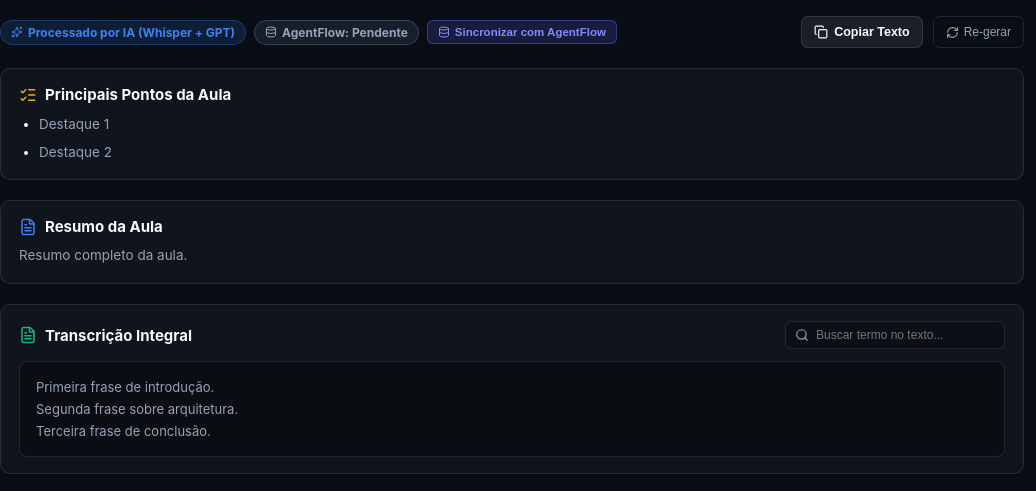
LessonAiTranscriptionTab Component › renders completed transcription with actions, takeaways and search
Expected: the text "Destaque 1" is shown, [39, 116, 109, 132]
Expected: the text "Destaque 2" is shown, [39, 144, 112, 160]
Testa cópia do texto
Step 1. Click the button with test id "btn-copy-transcription" → coordinates (862, 32), box [801, 16, 923, 48]
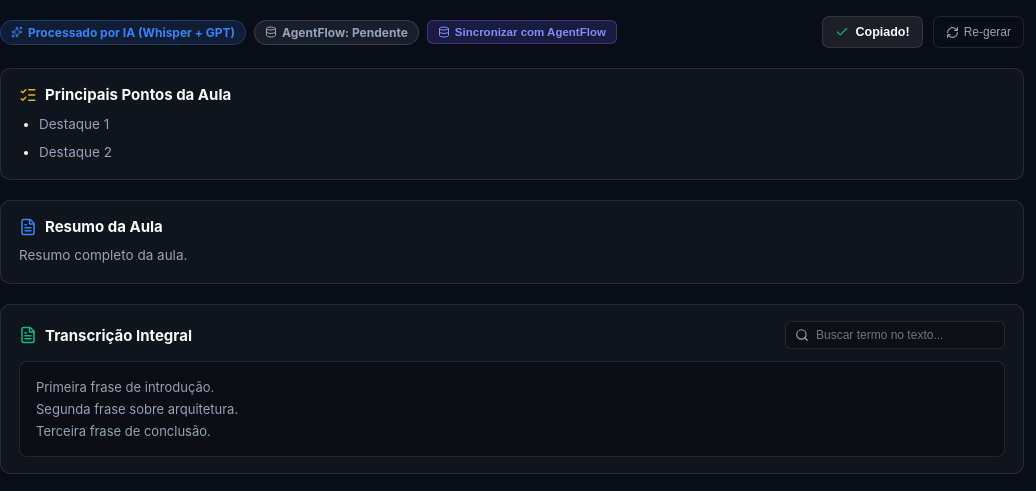
Testa busca rápida na transcrição
Step 2. Type "arquitetura" into the field with test id "input-search-transcript" → coordinates (895, 335), box [785, 321, 1005, 349]
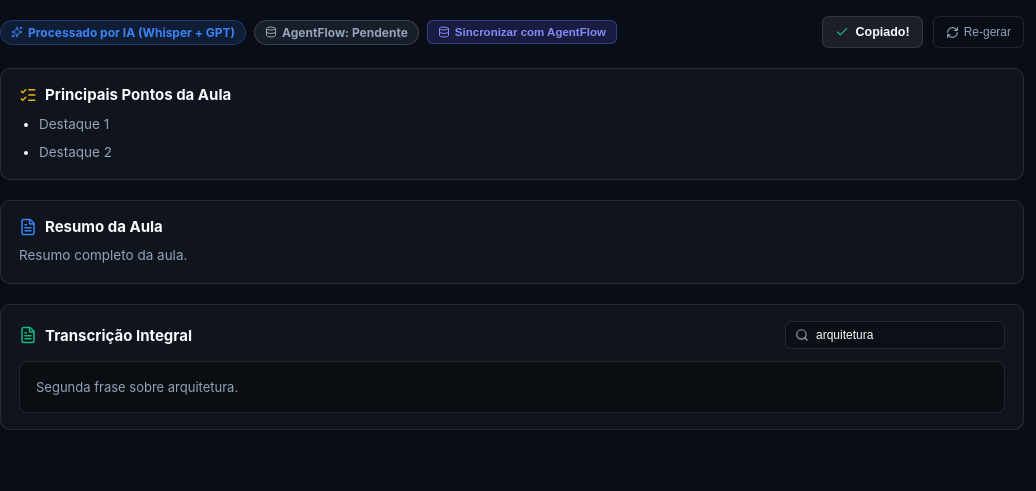
Now the text with test id "transcript-content-box" reads "Segunda frase sobre arquitetura.", box [36, 379, 238, 395]
Now the text with test id "transcript-content-box" no longer shows "Primeira frase de introdução.", box [19, 361, 1005, 413]
